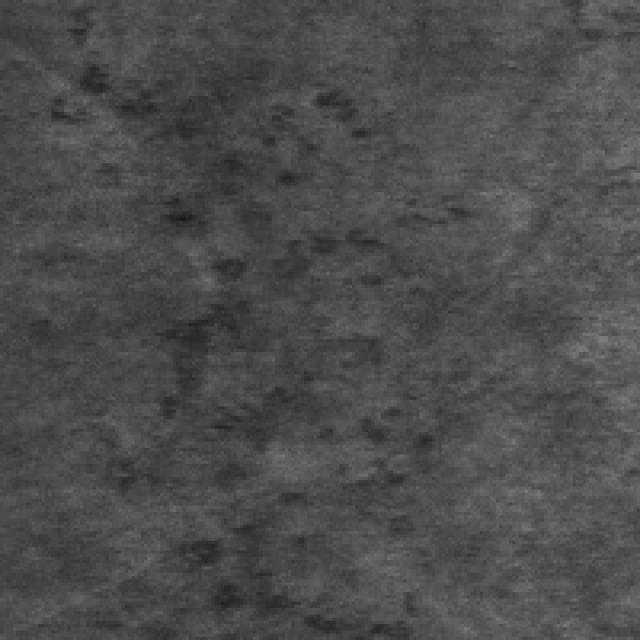rolled-in_scale: (118, 224, 420, 627), (48, 32, 397, 368)
